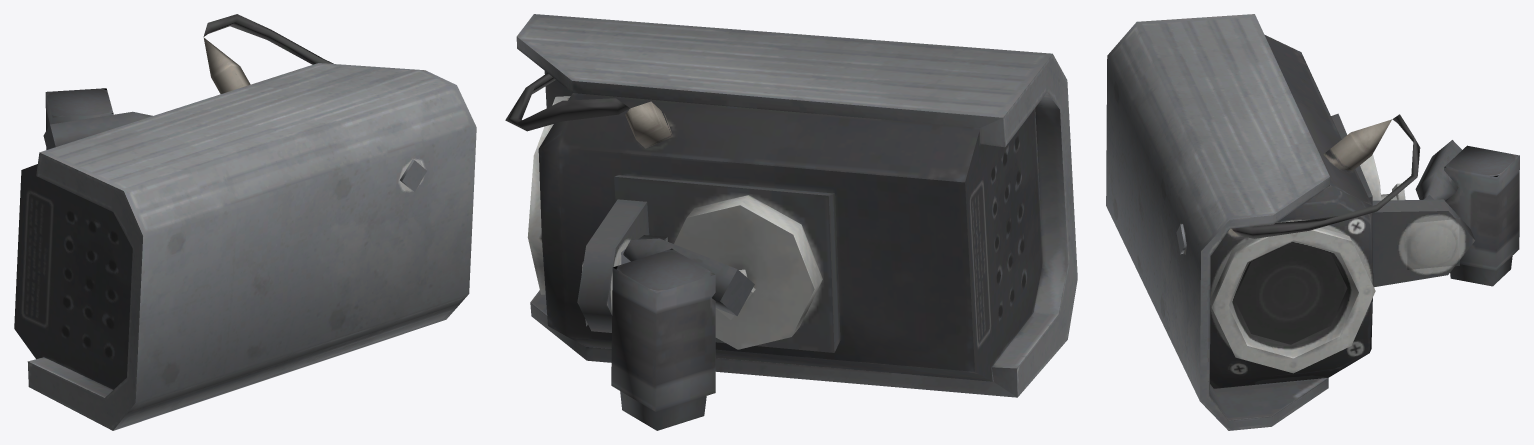
The model's file is t5_weapon_camera_head_world_LOD1.obj.
3 views of the same model, side by side, from view 1: azimuth 30°, elevation 25°; view 2: azimuth 150°, elevation 25°; view 3: azimuth 270°, elevation 25° (orthographic). The views are drawn at different scales.
Visible parts, largest first — view 1: mtl_t5_weapon_camera_spike; view 2: mtl_t5_weapon_camera_spike; view 3: mtl_t5_weapon_camera_spike.
Part boxes in pixels (<box>): mtl_t5_weapon_camera_spike: <box>14,14,476,430</box>; mtl_t5_weapon_camera_spike: <box>505,14,1077,430</box>; mtl_t5_weapon_camera_spike: <box>1106,14,1519,430</box>.
Size of the model in its own units: 25.52 by 15.44 by 23.21.
